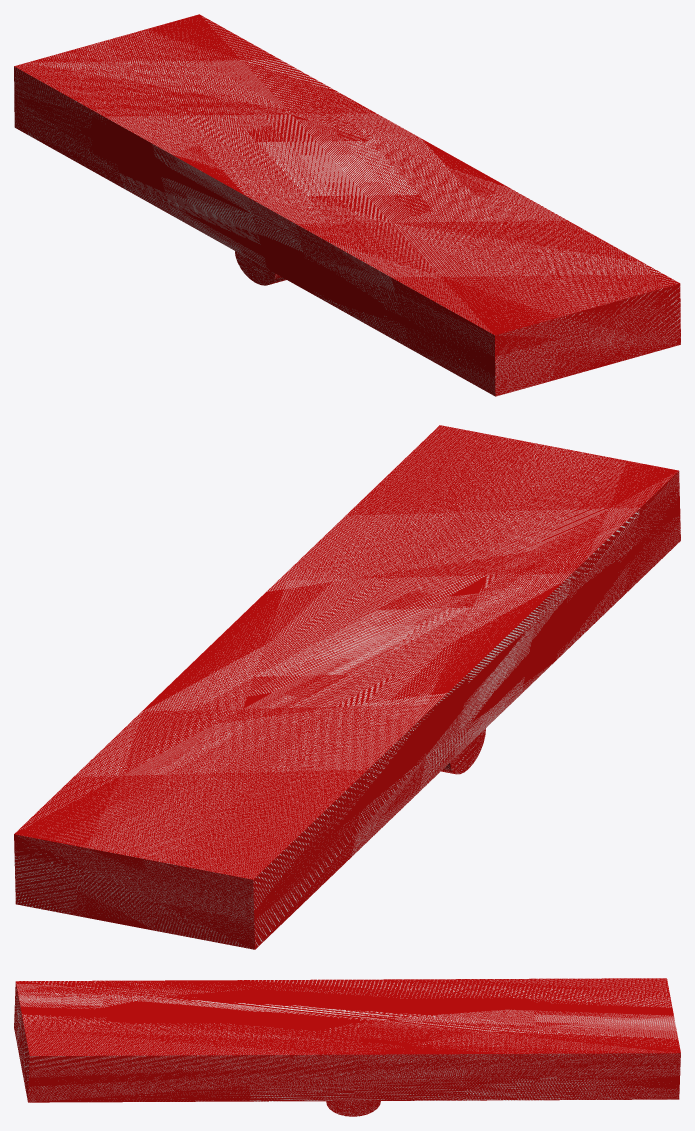
Rendered from original-30.obj.
3 renders of one model, top to bottom at view 1: azimuth 30°, elevation 25°; view 2: azimuth 150°, elevation 25°; view 3: azimuth 270°, elevation 25°, orthographic. The views are drawn at different scales.
Visible parts, largest first — view 1: Component_4_1/Component_4/mesh44/mesh44-geometry#mesh44-geometry; view 2: Component_4_1/Component_4/mesh44/mesh44-geometry#mesh44-geometry; view 3: Component_4_1/Component_4/mesh44/mesh44-geometry#mesh44-geometry.
Boxes of the visible parts, left/top/right/bottom form: Component_4_1/Component_4/mesh44/mesh44-geometry#mesh44-geometry: left=14, top=14, right=680, bottom=396; Component_4_1/Component_4/mesh44/mesh44-geometry#mesh44-geometry: left=14, top=425, right=680, bottom=949; Component_4_1/Component_4/mesh44/mesh44-geometry#mesh44-geometry: left=14, top=978, right=680, bottom=1116.
Bounding box in the file's own units: 0.0363 × 0.013 × 0.1068.
